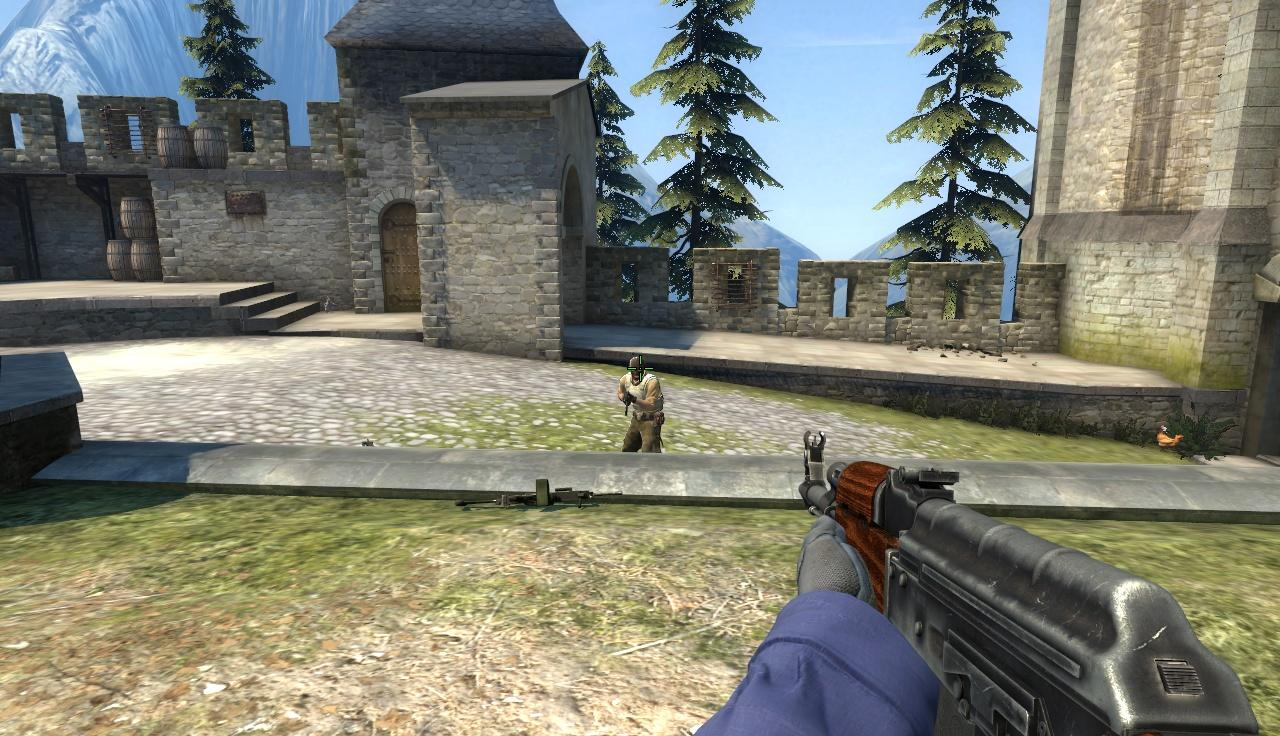rifle: (790, 428, 1280, 736)
tt: (622, 356, 663, 453)
tthead: (629, 357, 646, 382)
